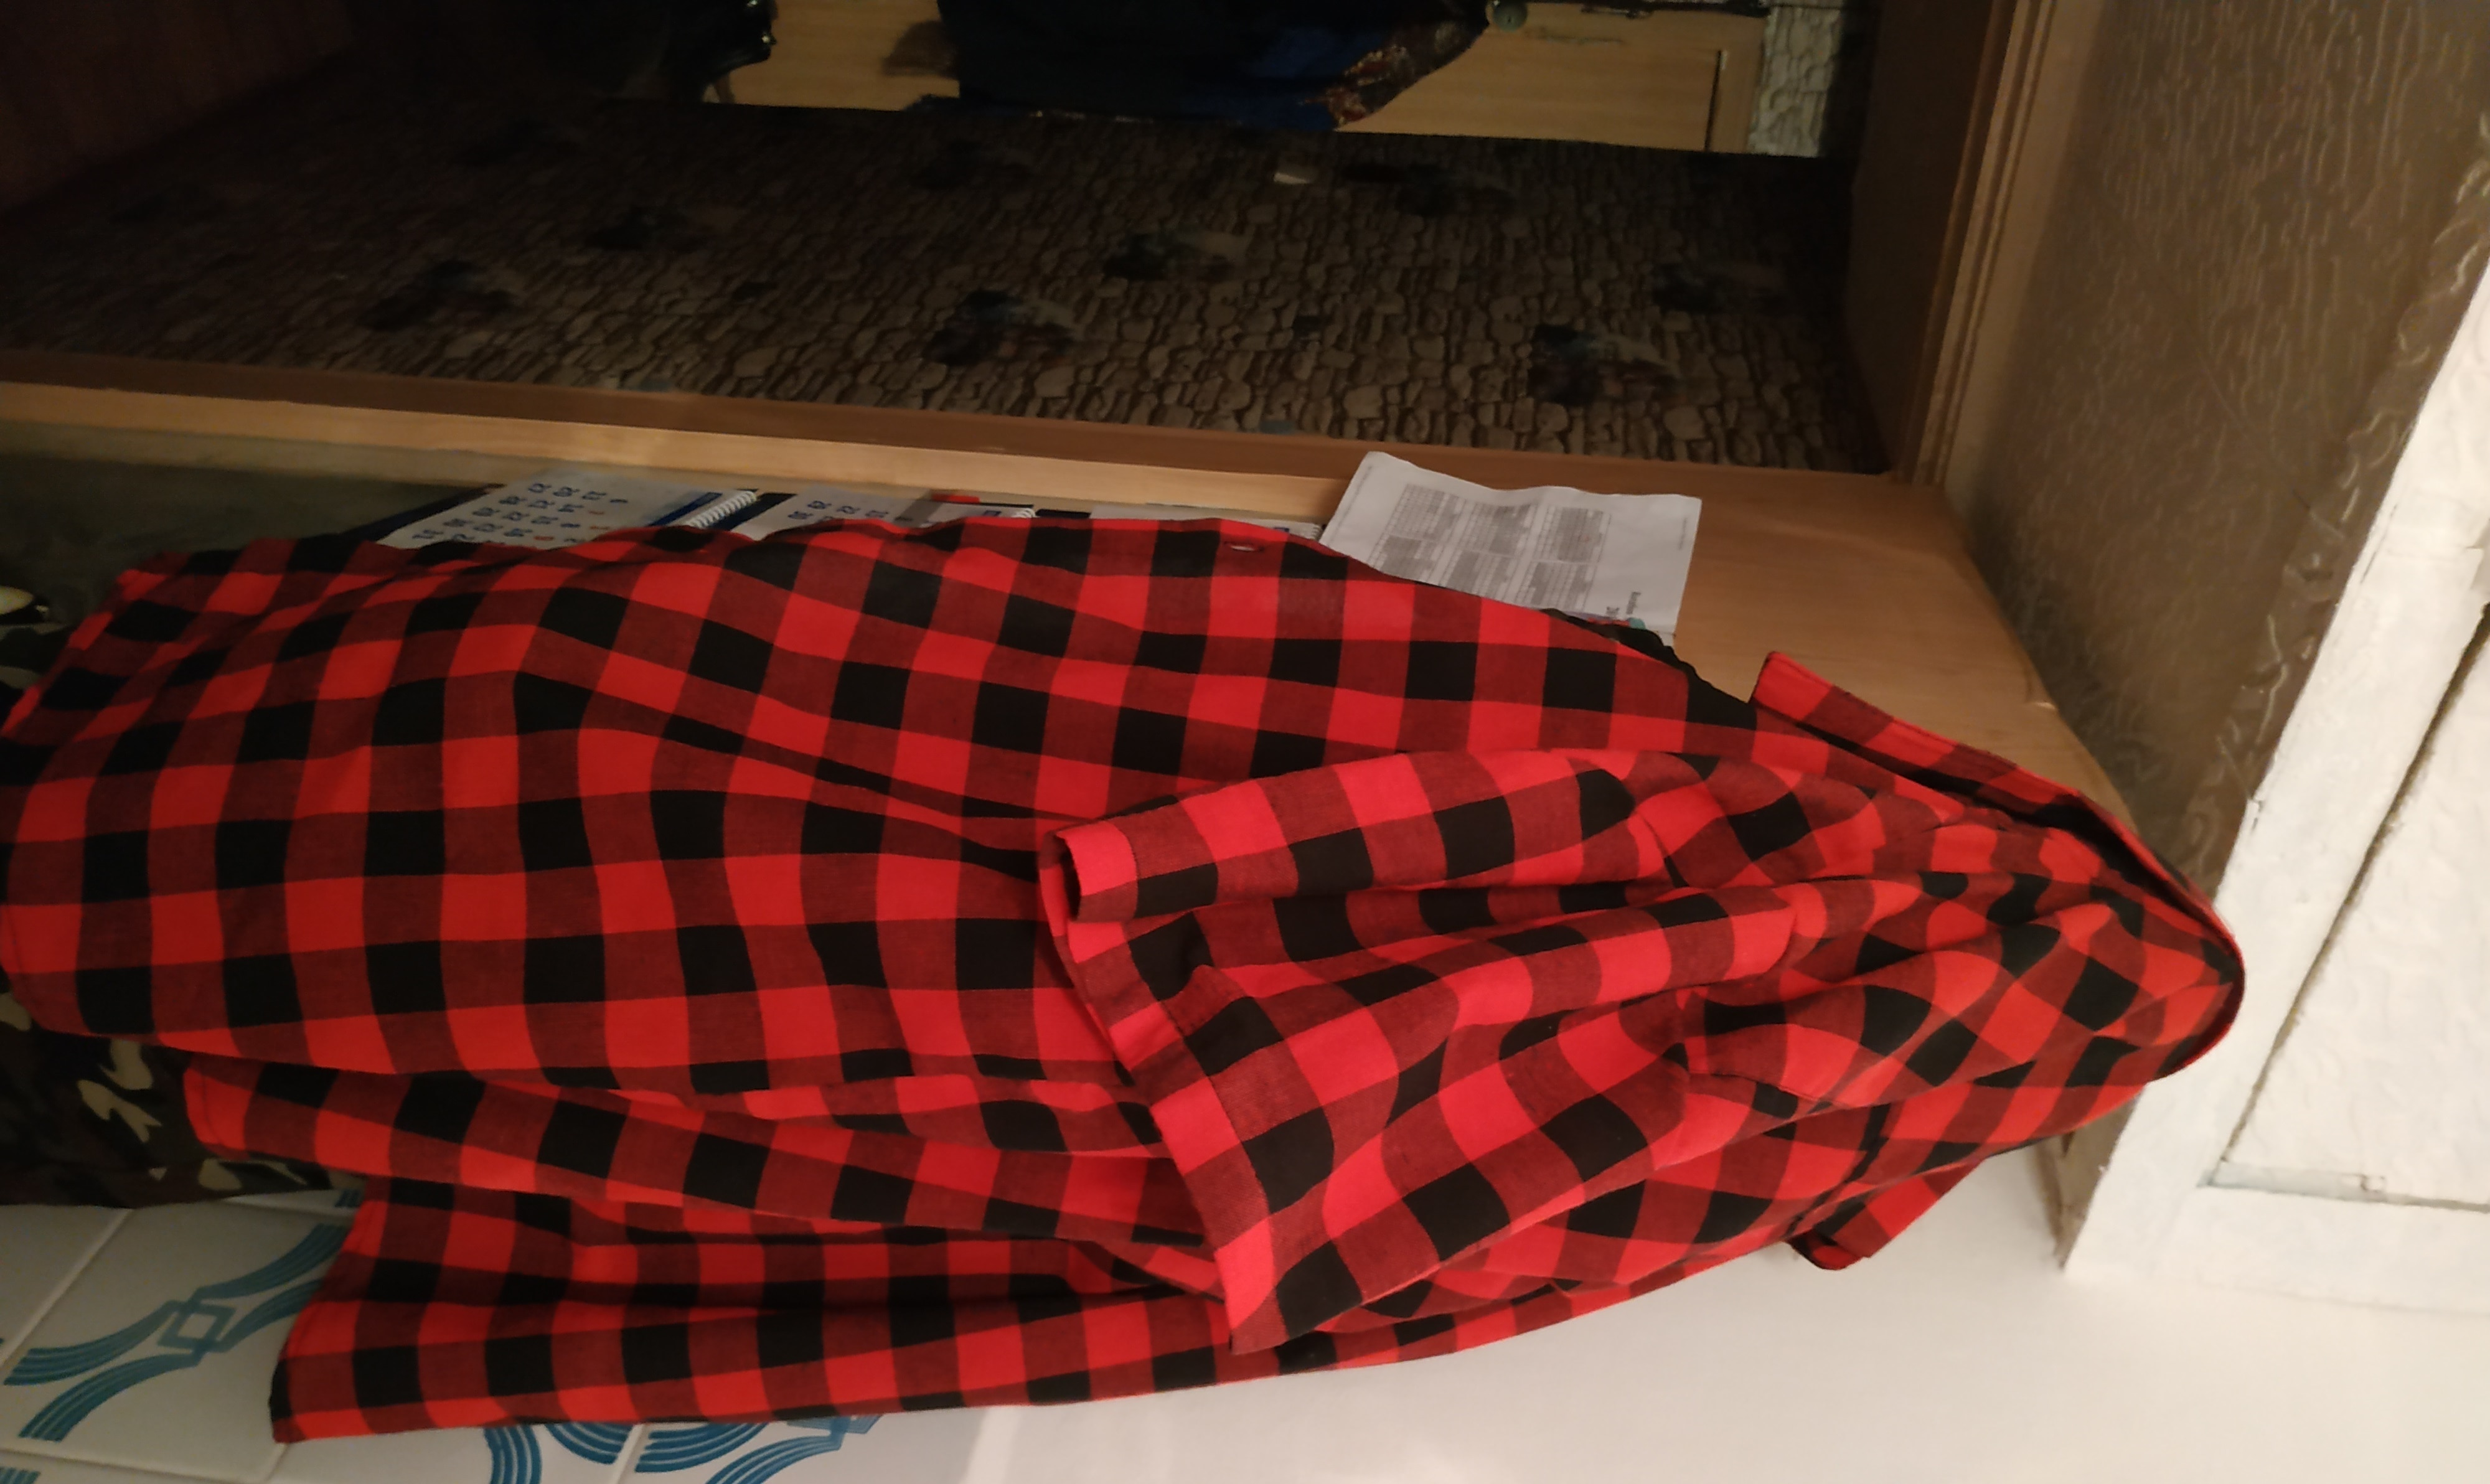shirts: (215, 458, 2280, 1397)
